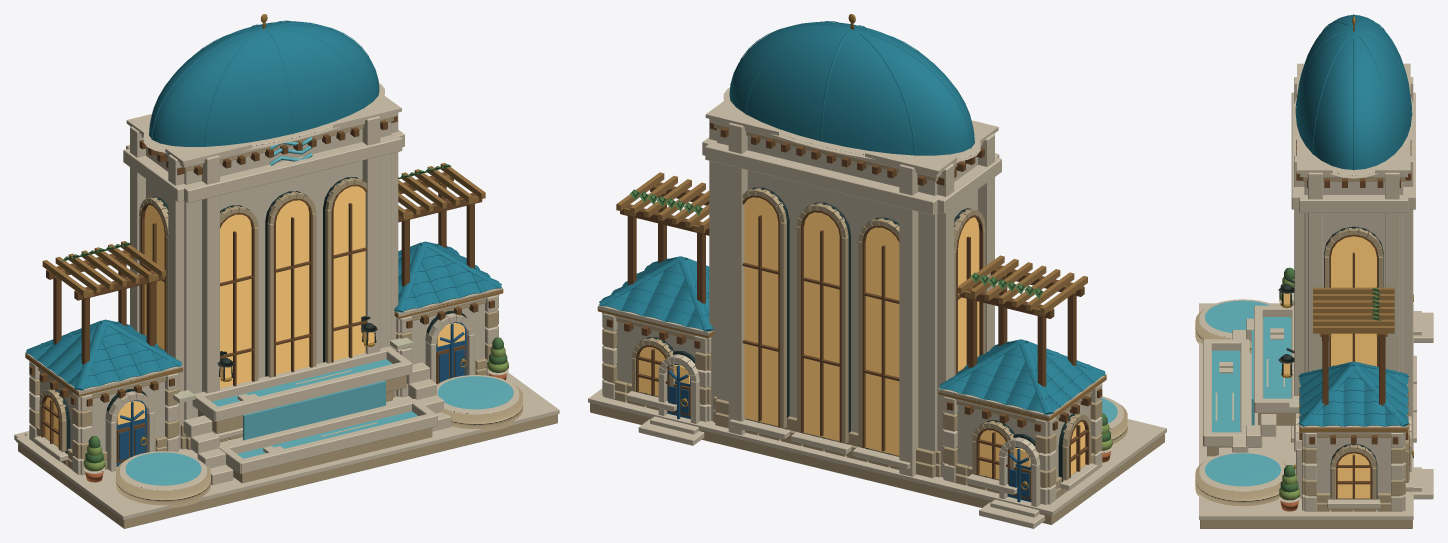
3 renders of one model, left to right at view 1: azimuth 30°, elevation 25°; view 2: azimuth 150°, elevation 25°; view 3: azimuth 270°, elevation 25°, orthographic. The views are drawn at different scales.
Visible parts, largest first — view 1: harbor_onsen_3_geometry, harbor_onsen_3_geometry ceramic; view 2: harbor_onsen_3_geometry, harbor_onsen_3_geometry ceramic; view 3: harbor_onsen_3_geometry, harbor_onsen_3_geometry ceramic.
Boxes of the visible parts, bbox=[...] form: harbor_onsen_3_geometry: bbox=[14, 14, 559, 528]; harbor_onsen_3_geometry ceramic: bbox=[26, 20, 501, 390]; harbor_onsen_3_geometry: bbox=[588, 14, 1166, 528]; harbor_onsen_3_geometry ceramic: bbox=[599, 21, 1105, 414]; harbor_onsen_3_geometry: bbox=[1195, 16, 1433, 528]; harbor_onsen_3_geometry ceramic: bbox=[1295, 14, 1412, 426].
Bounding box in the file's own units: 2.16 × 1.92 × 1.02.
